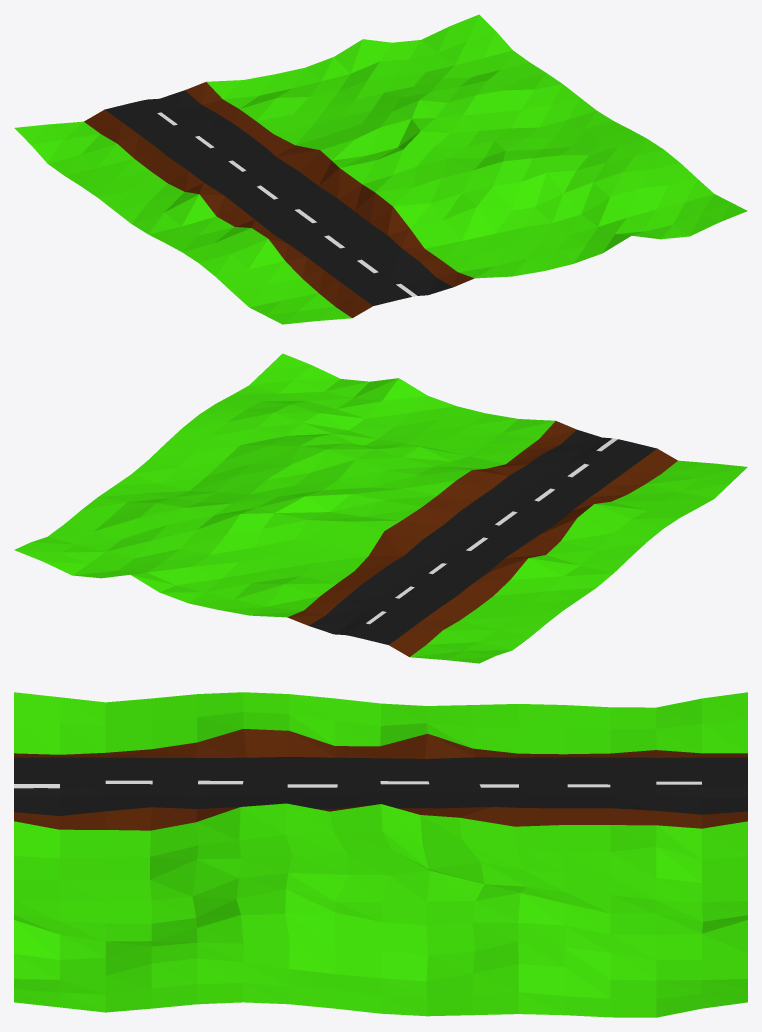
The model's file is Ground_HIghway.fbx.
The picture shows the model from 3 angles, top to bottom: view 1: azimuth 30°, elevation 25°; view 2: azimuth 150°, elevation 25°; view 3: azimuth 270°, elevation 25°; orthographic projection. The views are drawn at different scales.
Visible parts, largest first — view 1: Plane.002; view 2: Plane.002; view 3: Plane.002.
Part boxes in pixels (left/top/right/bottom): Plane.002: left=14, top=14, right=747, bottom=324; Plane.002: left=14, top=353, right=747, bottom=663; Plane.002: left=14, top=692, right=747, bottom=1017.
Bounding box in the file's own units: 2000 × 106 × 2000.
